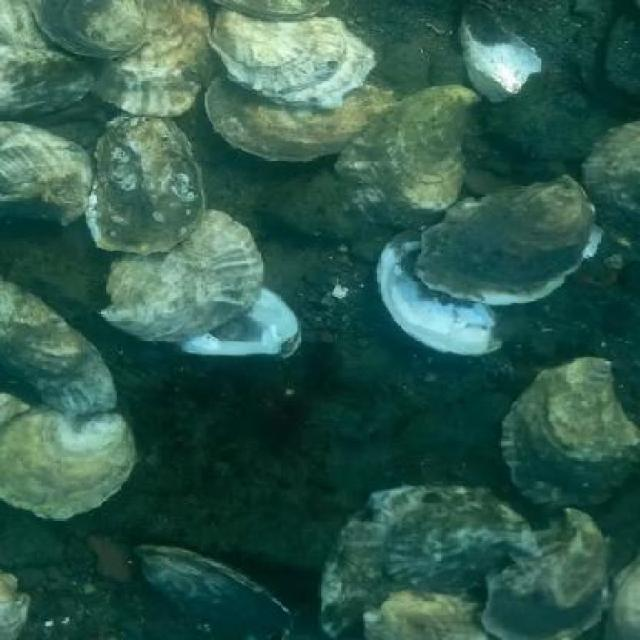Oyster-Closed: (415, 178, 602, 305)
Oyster-Indeterminate: (318, 485, 540, 636), (101, 208, 265, 343), (333, 85, 482, 227), (499, 359, 640, 505), (212, 5, 379, 109), (87, 114, 206, 253), (484, 510, 610, 640), (207, 77, 402, 161), (0, 277, 118, 412), (0, 405, 138, 517), (136, 545, 294, 640), (91, 0, 216, 117), (0, 120, 92, 225), (458, 0, 541, 102), (583, 119, 640, 259), (0, 45, 100, 123), (31, 0, 147, 60), (362, 589, 486, 640), (606, 554, 640, 640), (210, 0, 332, 22), (0, 0, 47, 47)
